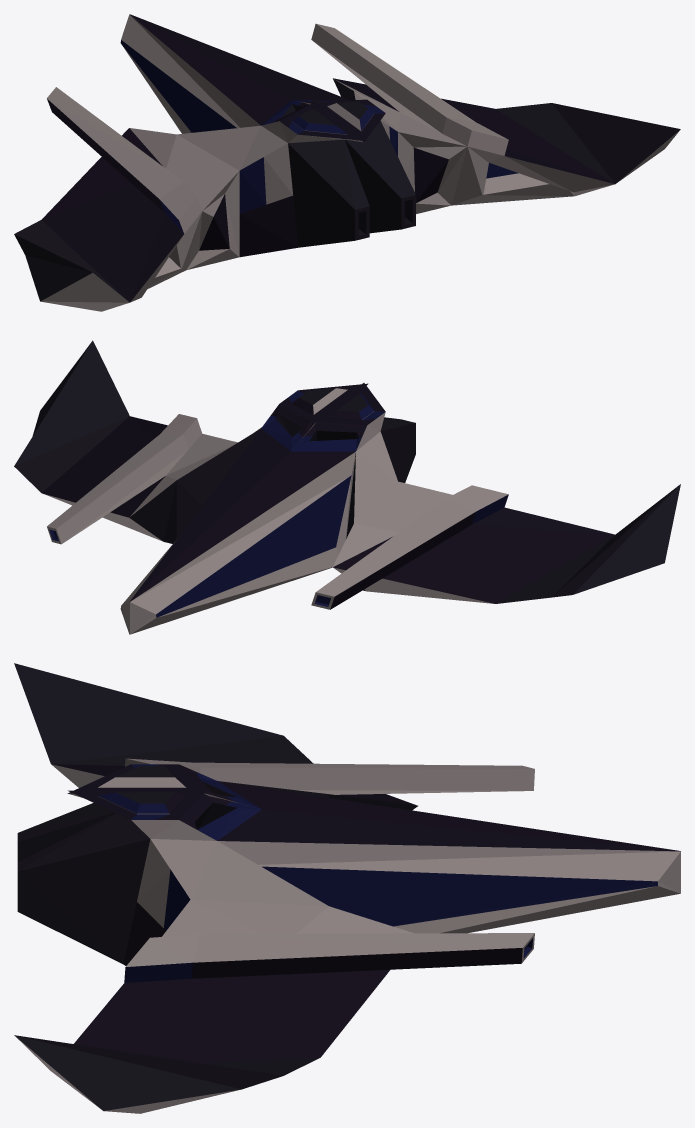
File: lab3.obj
3 views of the same model, one above another, from view 1: azimuth 30°, elevation 25°; view 2: azimuth 150°, elevation 25°; view 3: azimuth 270°, elevation 25° (orthographic). The views are drawn at different scales.
Parts seen in each view (by area): view 1: Cube; view 2: Cube; view 3: Cube.
Boxes of the visible parts, <box> form: Cube: <box>14,14,680,311</box>; Cube: <box>14,340,680,634</box>; Cube: <box>14,663,680,1113</box>.
Size of the model in its own units: 13.49 by 2.86 by 9.63.
